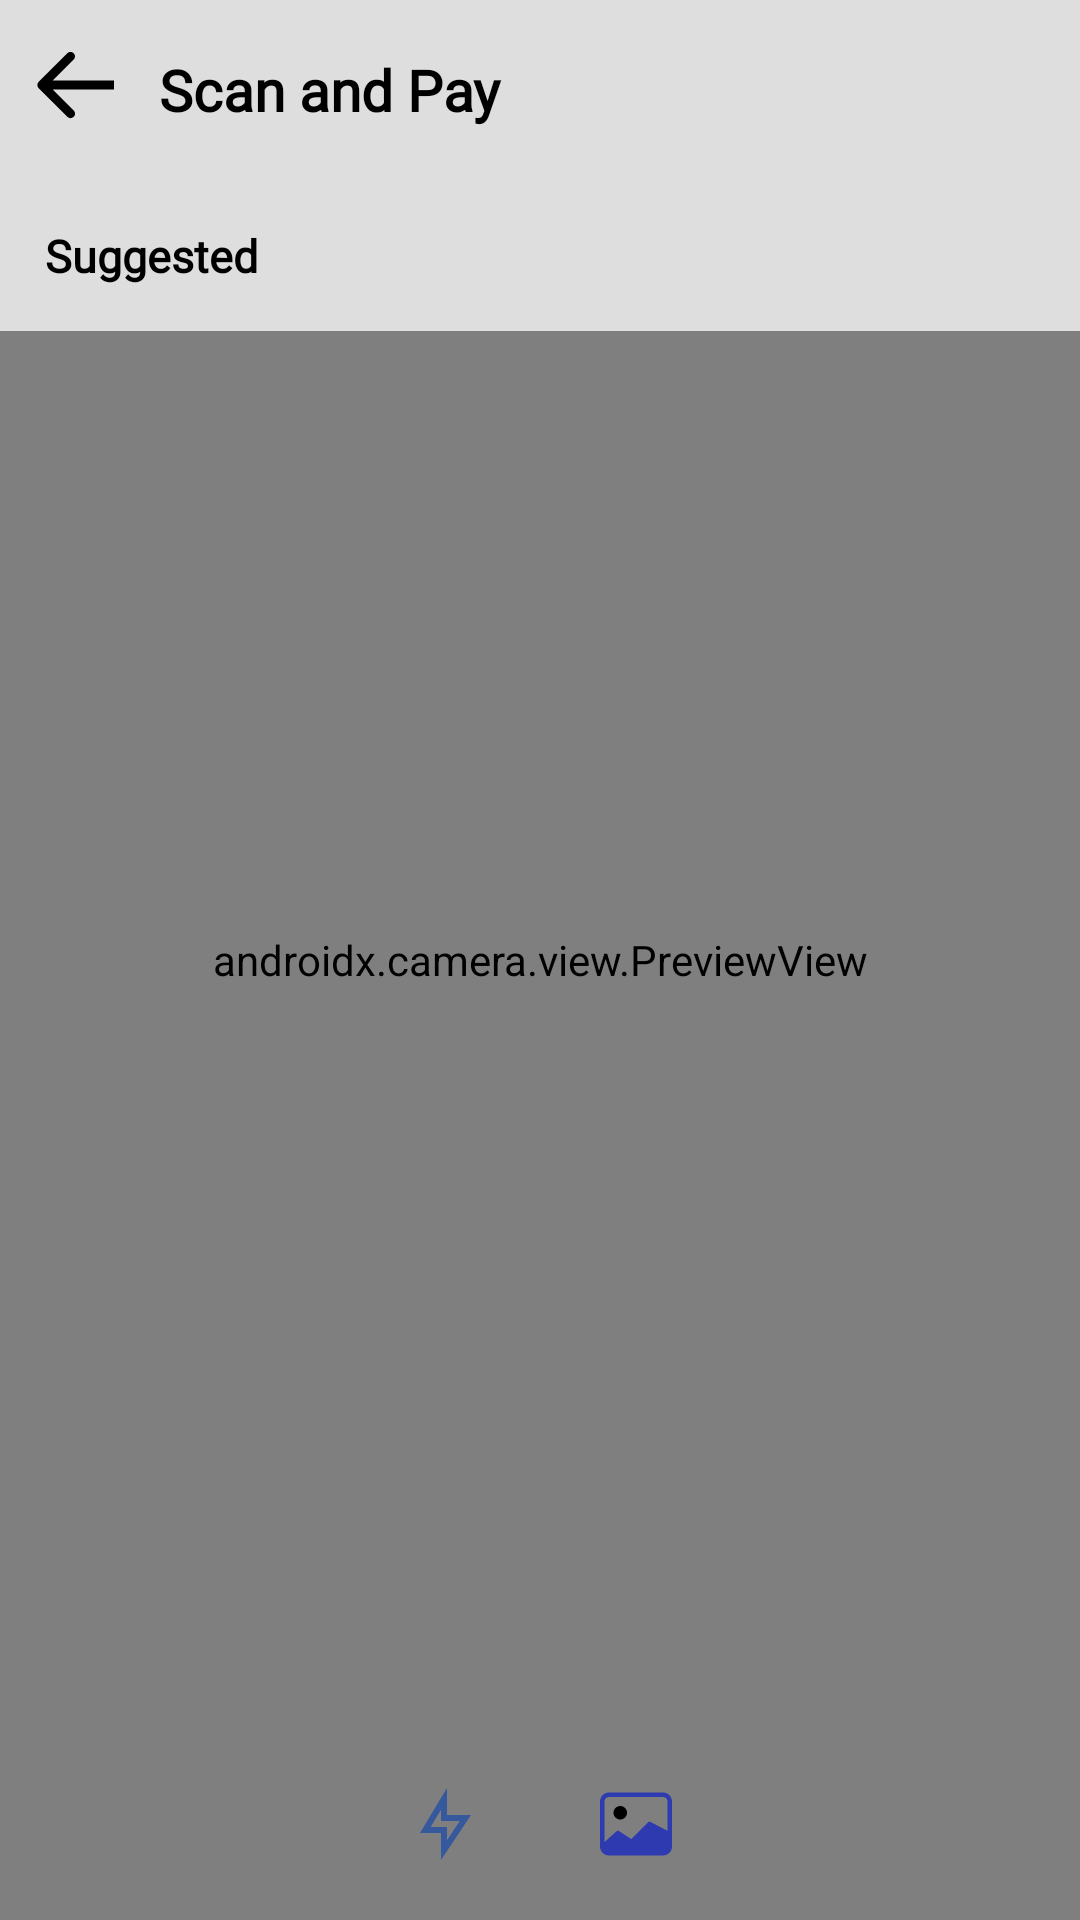

Point at icon controls on the screen. Image size 1080x1920, points as [x,y].
Gallery: [636,1824]
light: [445,1824]
